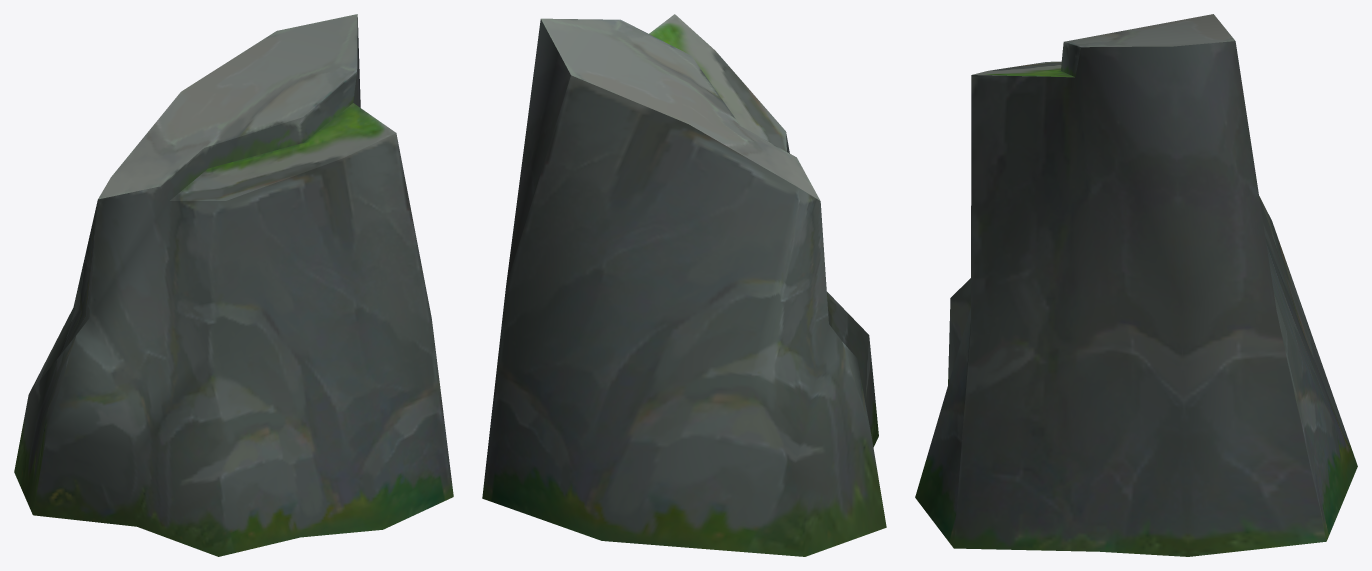
File: scene_luoliante_strone02.FBX
3 renders of one model, left to right at view 1: azimuth 30°, elevation 25°; view 2: azimuth 150°, elevation 25°; view 3: azimuth 270°, elevation 25°, orthographic. The views are drawn at different scales.
Parts seen in each view (by area): view 1: scene_luoliante_strone02; view 2: scene_luoliante_strone02; view 3: scene_luoliante_strone02.
Part boxes in pixels (box(x1,y1,x2,y2)): scene_luoliante_strone02: box(14, 14, 453, 556); scene_luoliante_strone02: box(482, 14, 886, 556); scene_luoliante_strone02: box(915, 14, 1357, 556).
Bounding box in the file's own units: 212 × 242 × 194.
